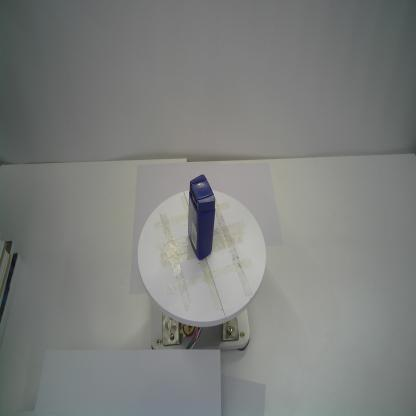Personal Hygiene: (187, 173, 216, 261)
